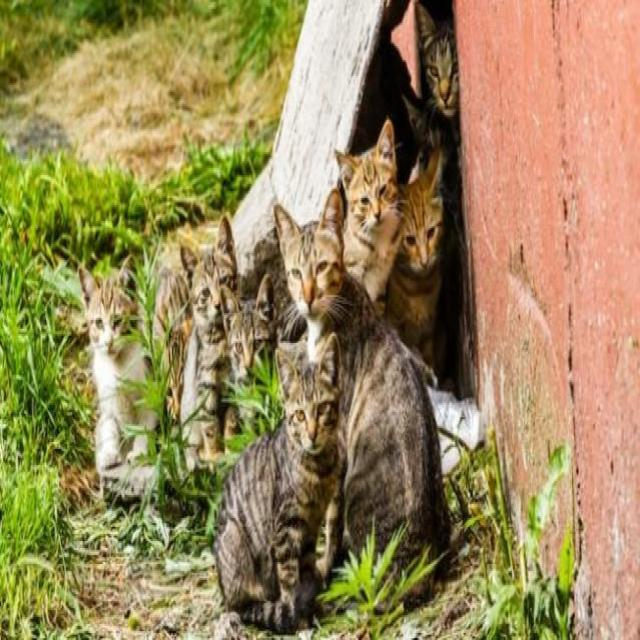cat: (274, 188, 450, 575), (215, 333, 341, 631), (79, 263, 156, 502), (180, 216, 238, 469), (336, 119, 401, 312), (386, 148, 444, 364), (402, 0, 460, 156), (222, 274, 275, 384), (154, 267, 192, 419)
